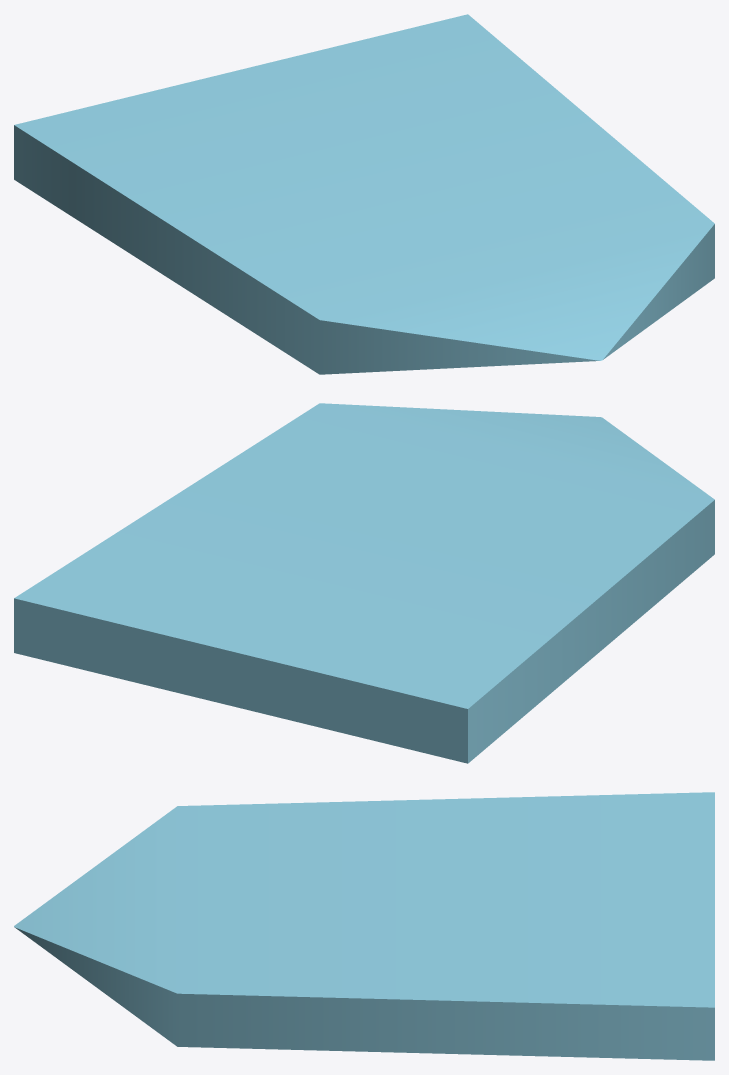
The model's file is shield.fbx.
3 renders of one model, top to bottom at view 1: azimuth 30°, elevation 25°; view 2: azimuth 150°, elevation 25°; view 3: azimuth 270°, elevation 25°, orthographic. The views are drawn at different scales.
Parts seen in each view (by area): view 1: shield; view 2: shield; view 3: shield.
Boxes of the visible parts, x1,y1,x2,y2 form: shield: [14, 14, 714, 374]; shield: [14, 403, 714, 763]; shield: [14, 792, 714, 1060].
Bounding box in the file's own units: 36.25 × 4.17 × 49.84.
